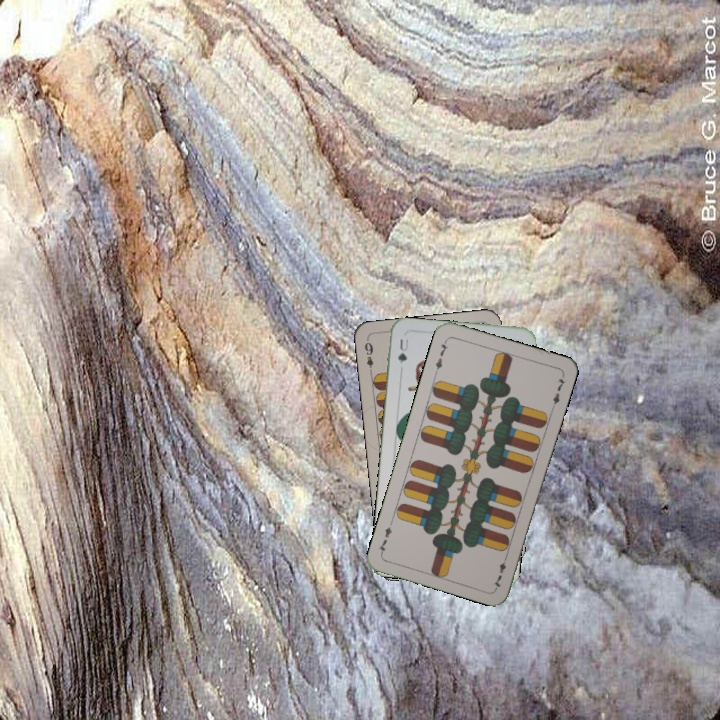E7: (489, 551, 510, 591), (431, 336, 451, 376)
E9: (361, 338, 376, 377)
GU: (394, 334, 411, 366)
